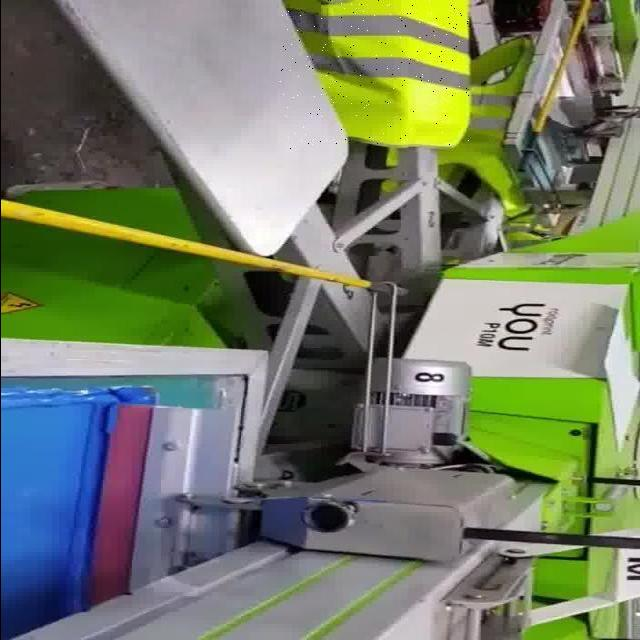vest: (278, 0, 470, 150)
